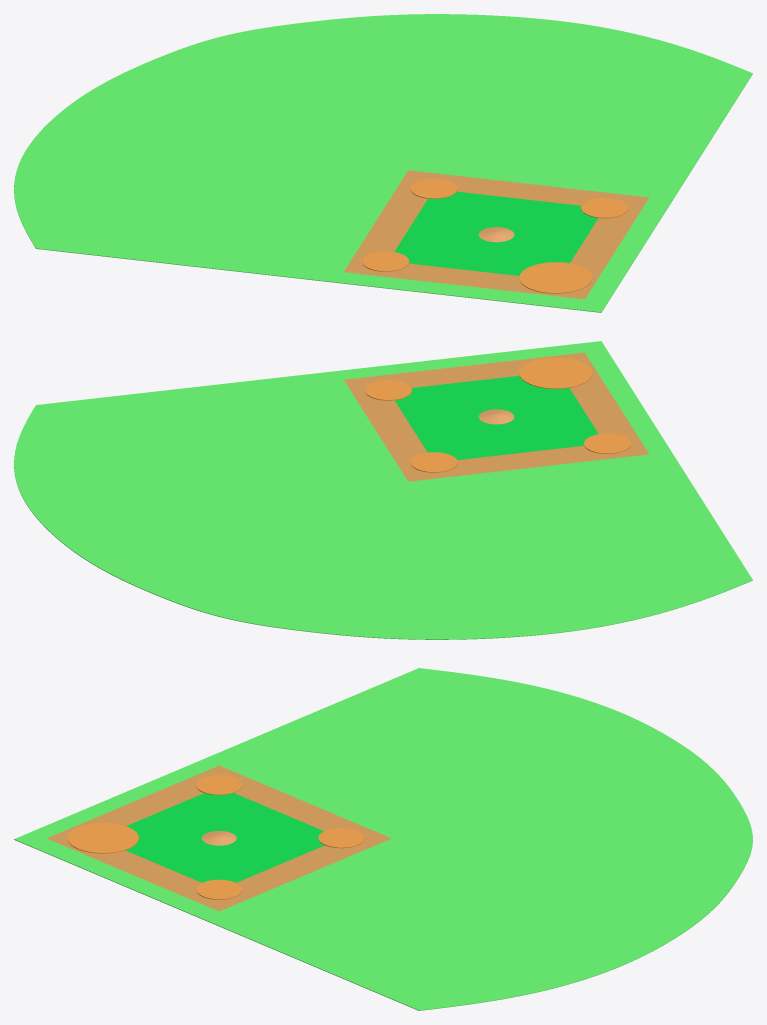
The picture shows the model from 3 angles, top to bottom: view 1: azimuth 30°, elevation 25°; view 2: azimuth 150°, elevation 25°; view 3: azimuth 270°, elevation 25°; orthographic projection. The views are drawn at different scales.
Visible parts, largest first — view 1: Plane.002, Plane.001, Circle.003; view 2: Plane.002, Plane.001, Circle.003; view 3: Plane.002, Plane.001, Circle.003.
Boxes of the visible parts, bbox=[...] form: Plane.002: bbox=[14, 14, 752, 312]; Plane.001: bbox=[344, 170, 648, 299]; Circle.003: bbox=[362, 178, 628, 293]; Plane.002: bbox=[14, 341, 752, 639]; Plane.001: bbox=[344, 352, 648, 481]; Circle.003: bbox=[365, 357, 630, 472]; Plane.002: bbox=[14, 668, 752, 1010]; Plane.001: bbox=[47, 765, 391, 911]; Circle.003: bbox=[67, 775, 364, 899].
Size of the model in its own units: 129 by 0.6386 by 117.
